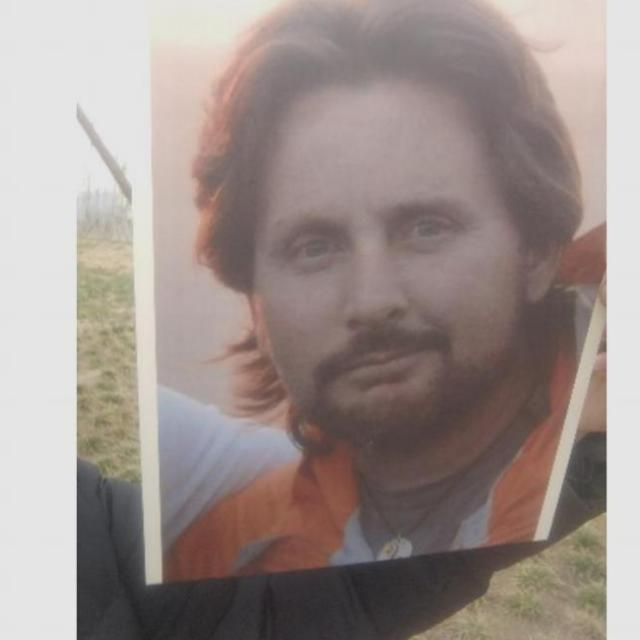photo: (114, 0, 605, 593)
